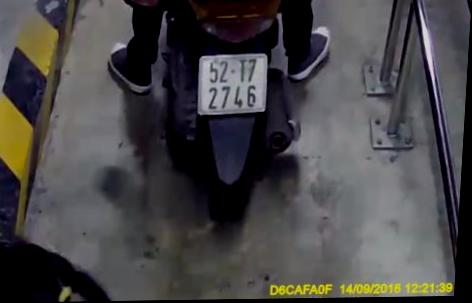License_Plate: (188, 50, 278, 121)
